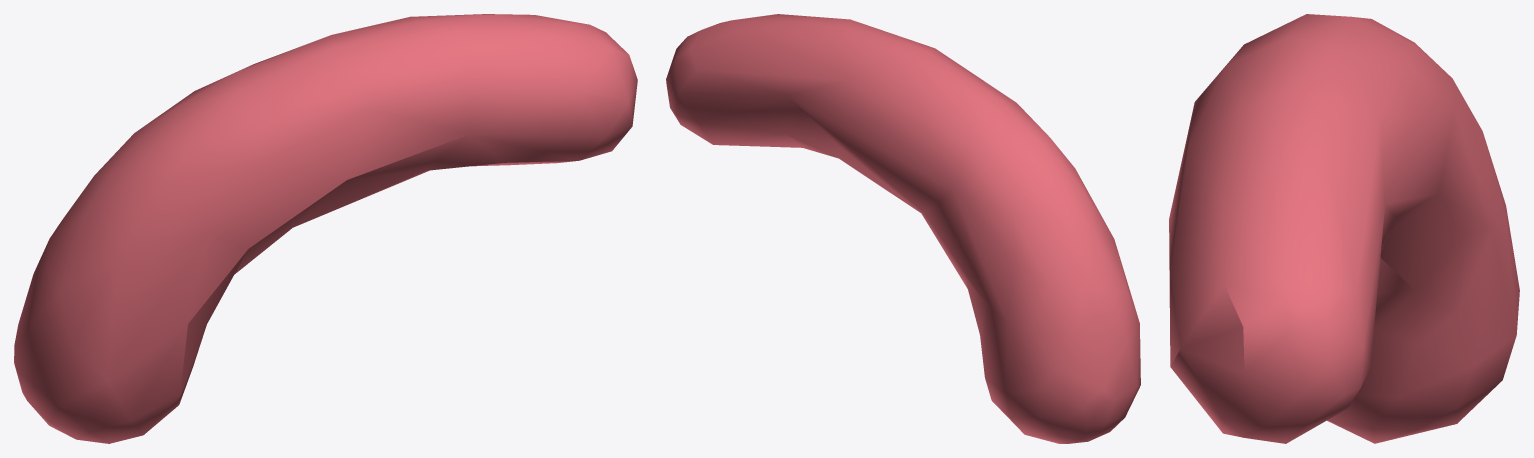
The model's file is fma50640_fj1723m.glb.
3 renders of one model, left to right at view 1: azimuth 30°, elevation 25°; view 2: azimuth 150°, elevation 25°; view 3: azimuth 270°, elevation 25°, orthographic. The views are drawn at different scales.
Visible parts, largest first — view 1: FMA50640_FJ1723M; view 2: FMA50640_FJ1723M; view 3: FMA50640_FJ1723M.
Part boxes in pixels (<box>): FMA50640_FJ1723M: <box>14,14,637,443</box>; FMA50640_FJ1723M: <box>666,14,1140,443</box>; FMA50640_FJ1723M: <box>1169,14,1519,443</box>.
Size of the model in its own units: 0.00862 by 0.00548 by 0.00324.
